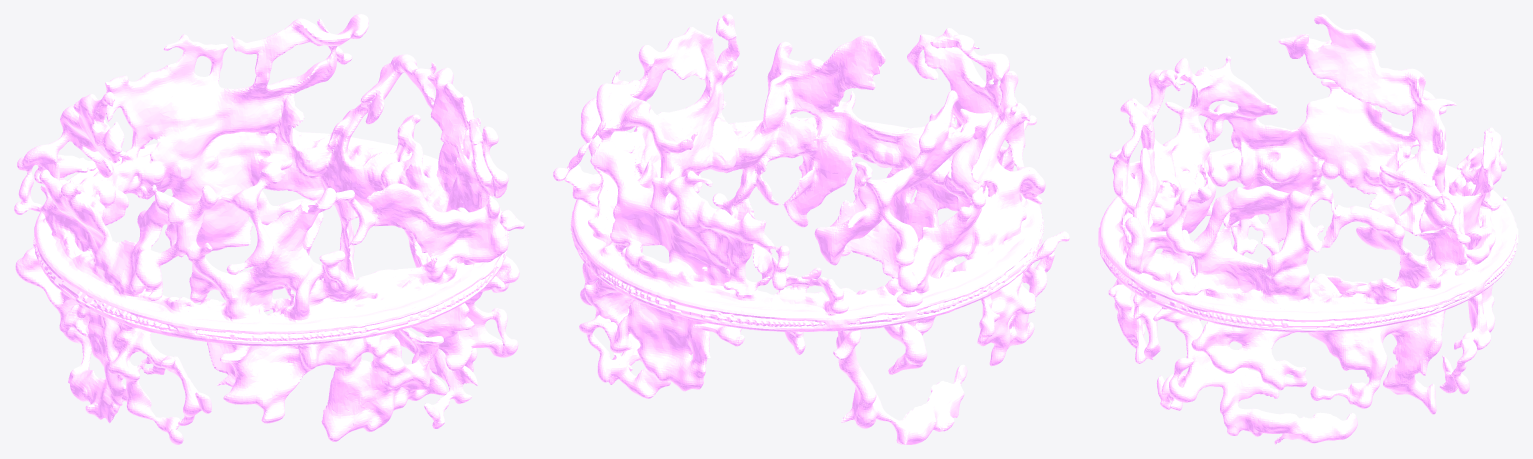
Rendered from snr-sn1987a.glb.
3 views of the same model, side by side, from view 1: azimuth 30°, elevation 25°; view 2: azimuth 150°, elevation 25°; view 3: azimuth 270°, elevation 25° (orthographic). The views are drawn at different scales.
Parts seen in each view (by area): view 1: Combined.stl; view 2: Combined.stl; view 3: Combined.stl.
Part boxes in pixels (x1=…): Combined.stl: x1=14, y1=14, x2=524, y2=444; Combined.stl: x1=553, y1=14, x2=1069, y2=444; Combined.stl: x1=1098, y1=14, x2=1518, y2=444.
Bounding box in the file's own units: 0.4042 × 0.3322 × 0.404.
